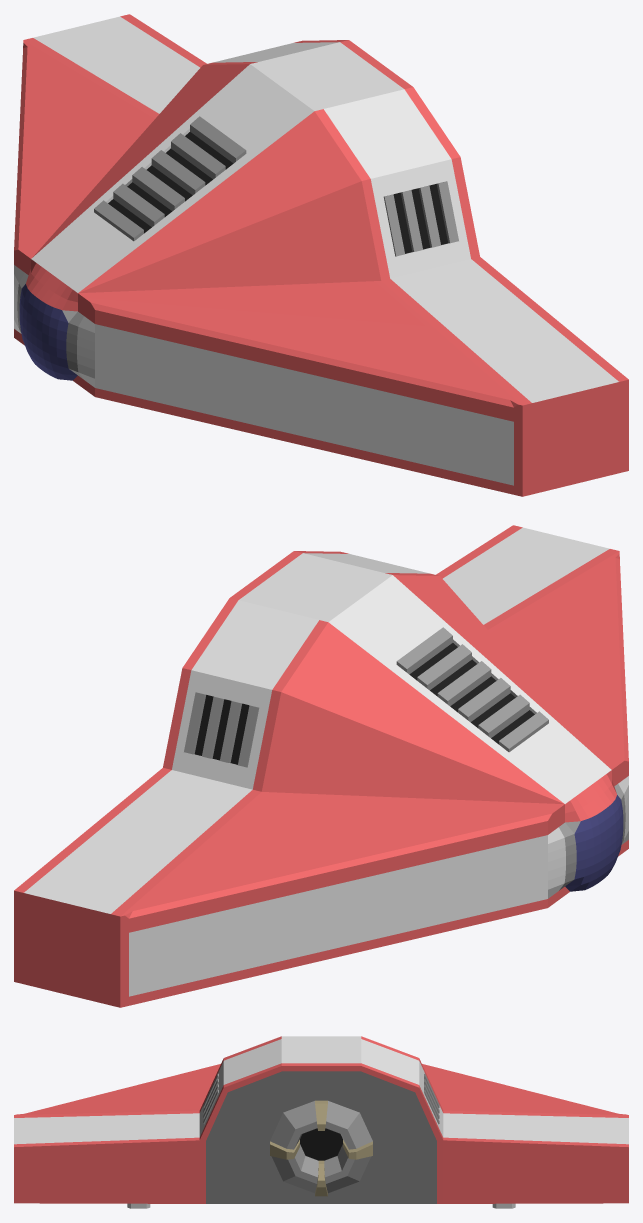
The model's file is astro2.1.fbx.
3 renders of one model, top to bottom at view 1: azimuth 30°, elevation 25°; view 2: azimuth 150°, elevation 25°; view 3: azimuth 270°, elevation 25°, orthographic. The views are drawn at different scales.
Visible parts, largest first — view 1: Cube; view 2: Cube; view 3: Cube.
Boxes of the visible parts, x1,y1,x2,y2 form: Cube: (14, 14, 628, 496); Cube: (14, 525, 628, 1007); Cube: (14, 1036, 628, 1203).
Bounding box in the file's own units: 220 × 144 × 505.
